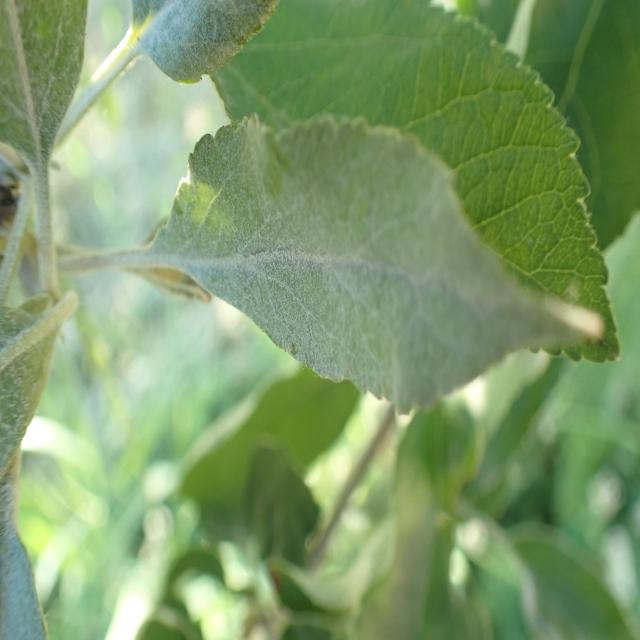Powdery_mildew: (152, 113, 602, 428), (0, 0, 109, 211), (120, 0, 280, 109)
